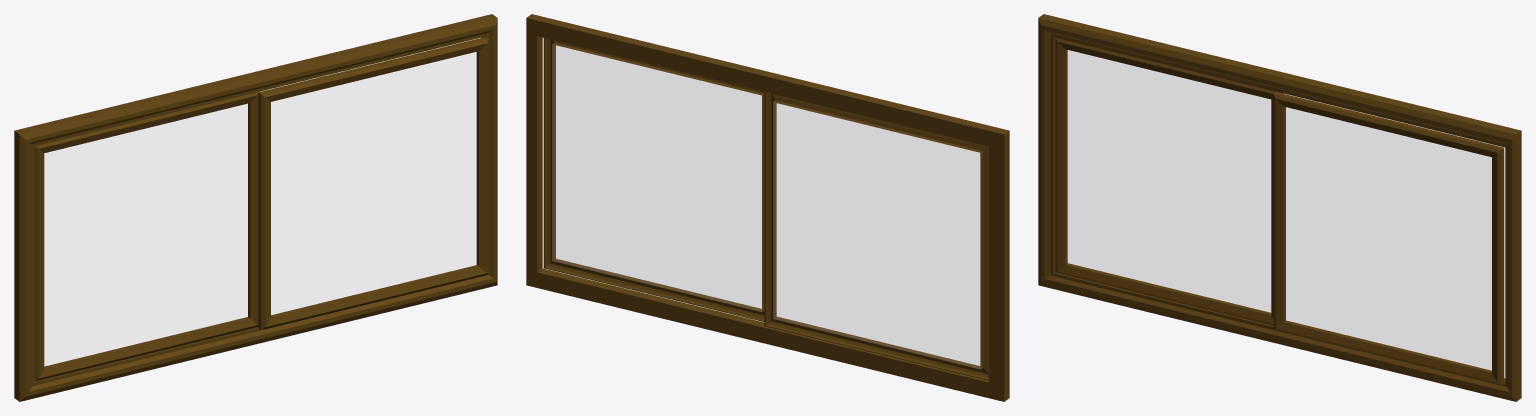
File: Janela.fbx
The picture shows the model from 3 angles, left to right: view 1: azimuth 30°, elevation 25°; view 2: azimuth 150°, elevation 25°; view 3: azimuth 330°, elevation 25°; orthographic projection.
Visible parts, largest first — view 1: Plane.017; view 2: Plane.017; view 3: Plane.017.
Boxes of the visible parts, x1,y1,x2,y2 form: Plane.017: (14, 14, 497, 401); Plane.017: (526, 14, 1009, 401); Plane.017: (1038, 14, 1521, 401).
Size of the model in its own units: 464 by 248 by 16.1.
